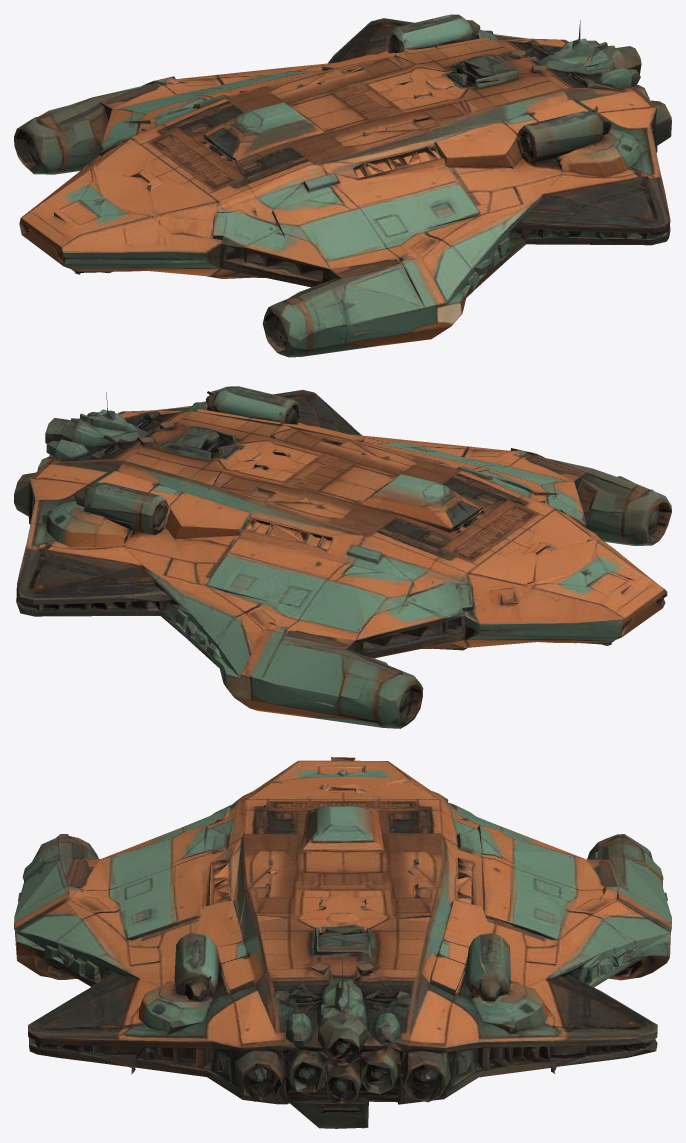
File: nation-aa-carrier.glb
The picture shows the model from 3 angles, top to bottom: view 1: azimuth 30°, elevation 25°; view 2: azimuth 150°, elevation 25°; view 3: azimuth 270°, elevation 25°; orthographic projection. The views are drawn at different scales.
Bounding box in the file's own units: 1.9 × 0.4835 × 1.64.
1 material, 1 textured.
